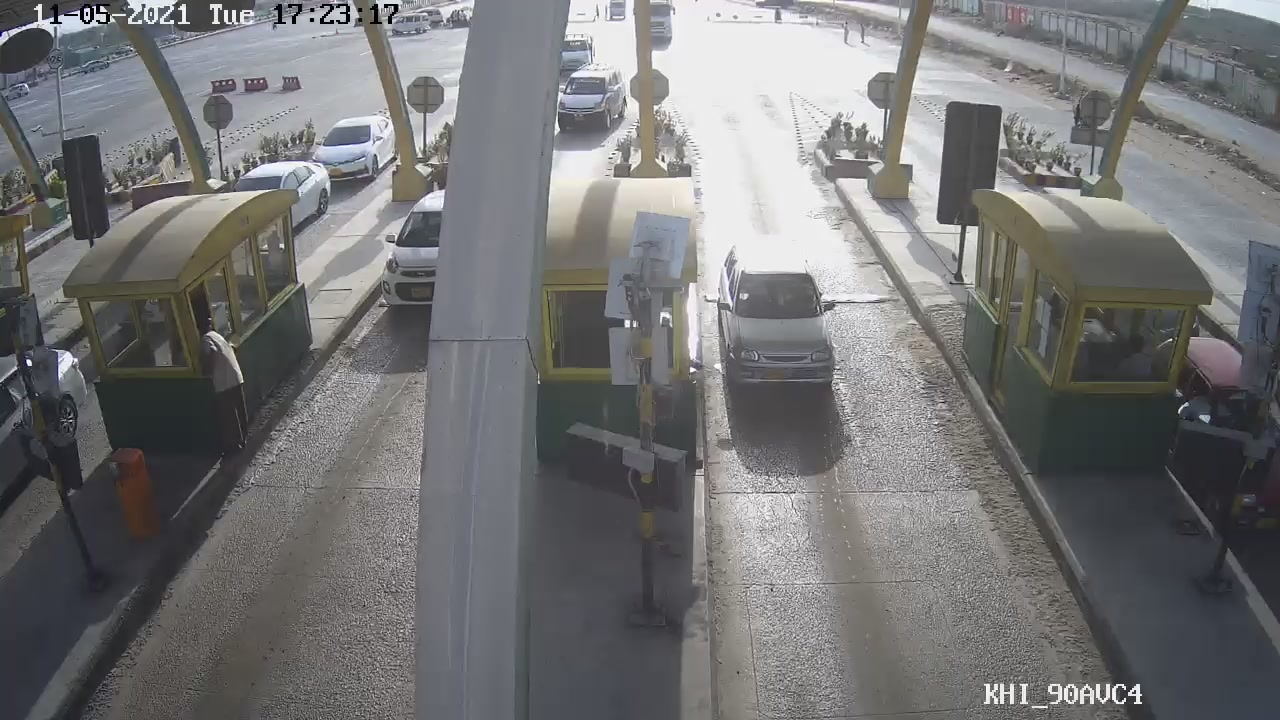F1: (708, 239, 856, 396)
